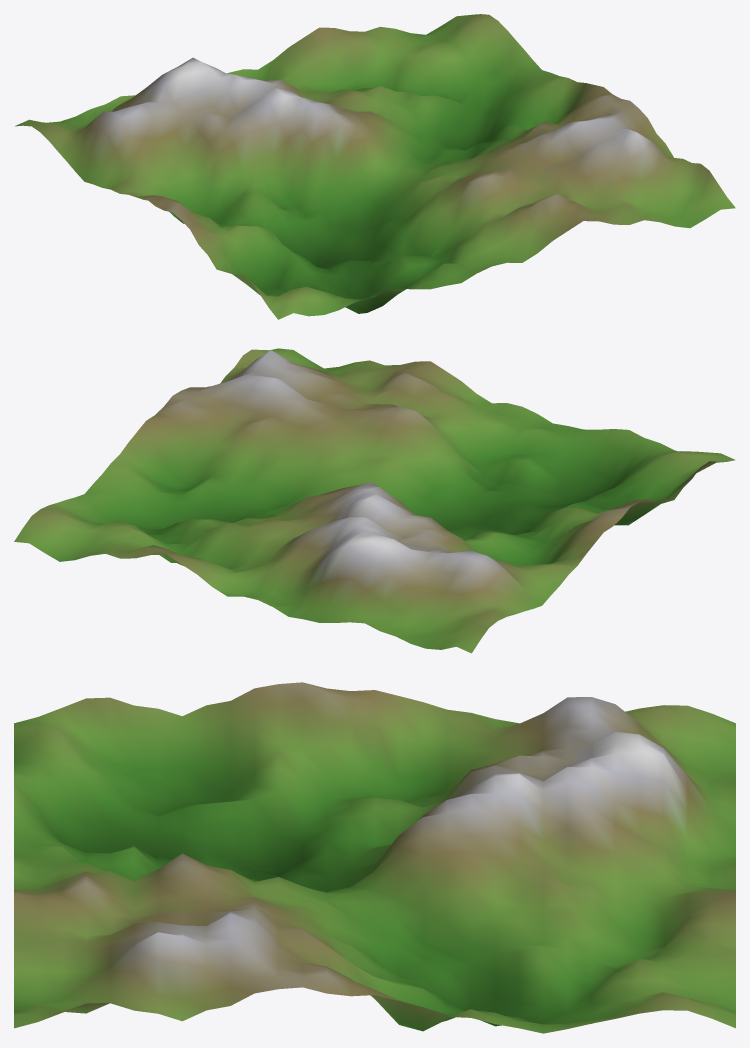
File: Terrain_1783481558545.obj
The picture shows the model from 3 angles, top to bottom: view 1: azimuth 30°, elevation 25°; view 2: azimuth 150°, elevation 25°; view 3: azimuth 270°, elevation 25°; orthographic projection. The views are drawn at different scales.
Bounding box in the file's own units: 60 × 12.52 × 60.
